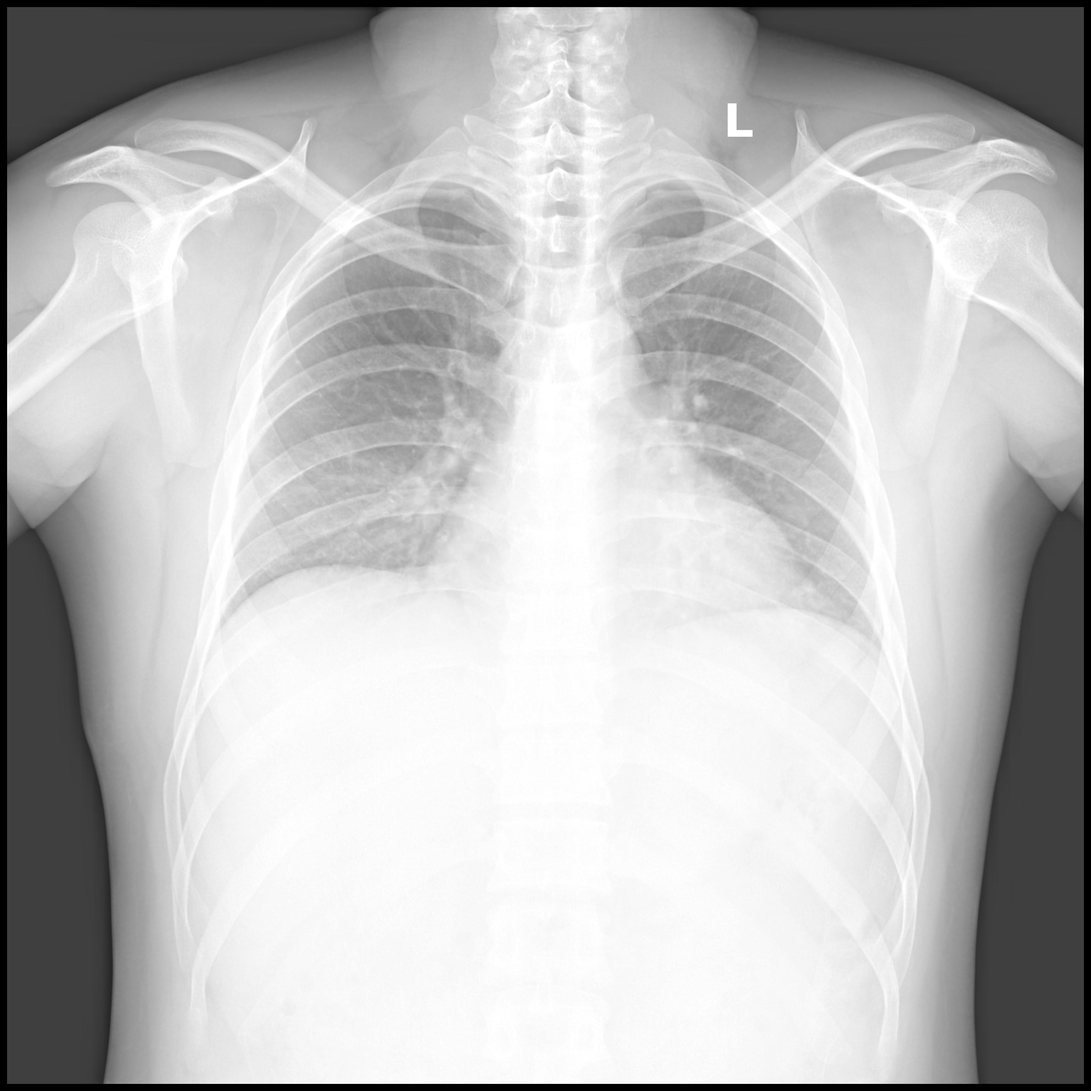Cardiomegaly: (426, 509, 797, 621)
Pleural thickening: (371, 173, 478, 203), (652, 178, 729, 200)
